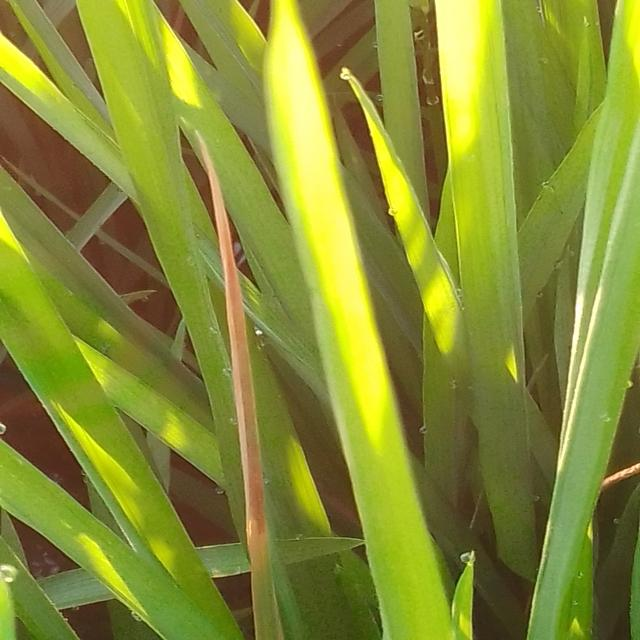Brown spot: (173, 119, 308, 602)
